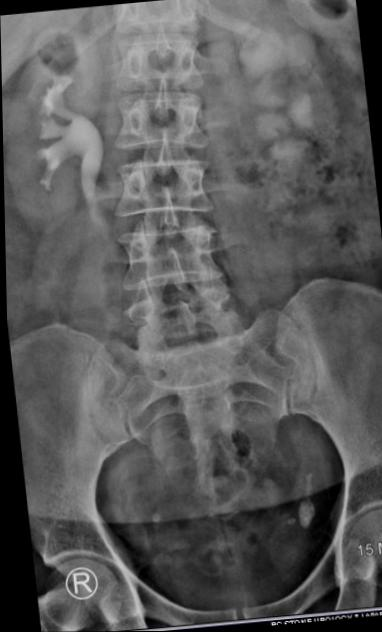right kidney: (0, 17, 114, 242)
vertebrae: (108, 19, 205, 97)
